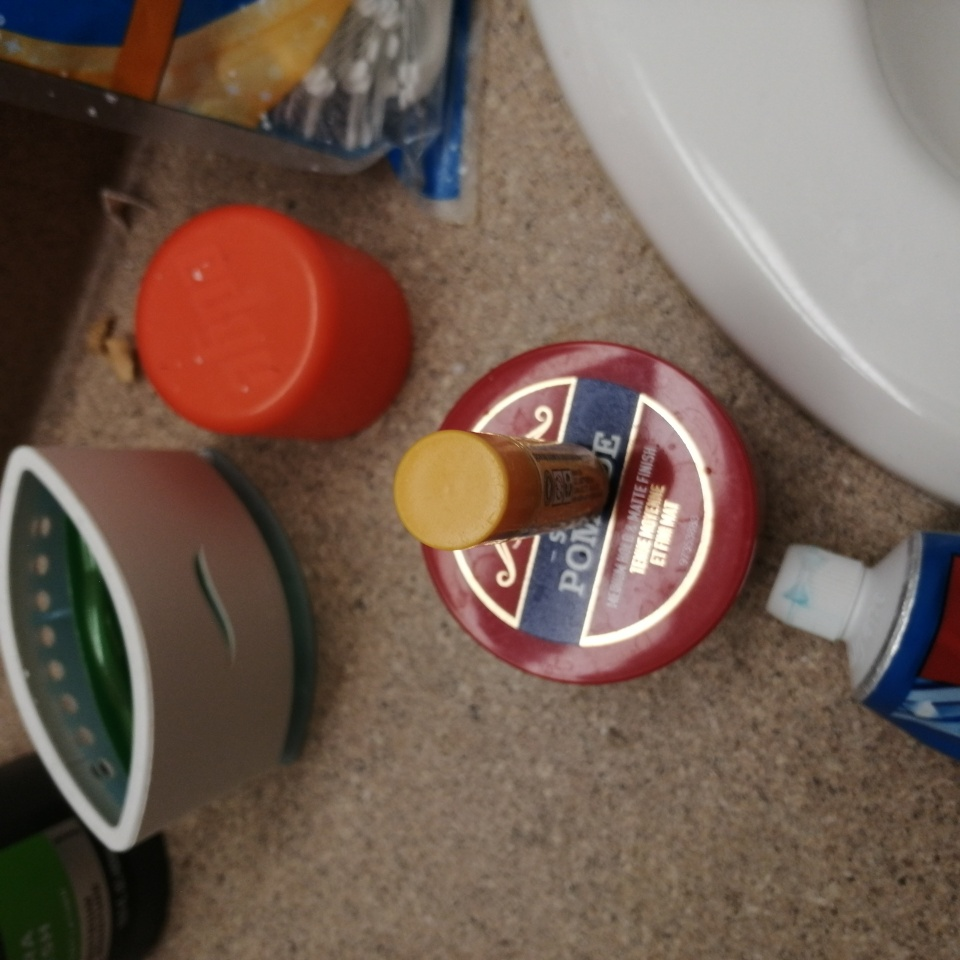chapstick: (392, 429, 610, 553)
